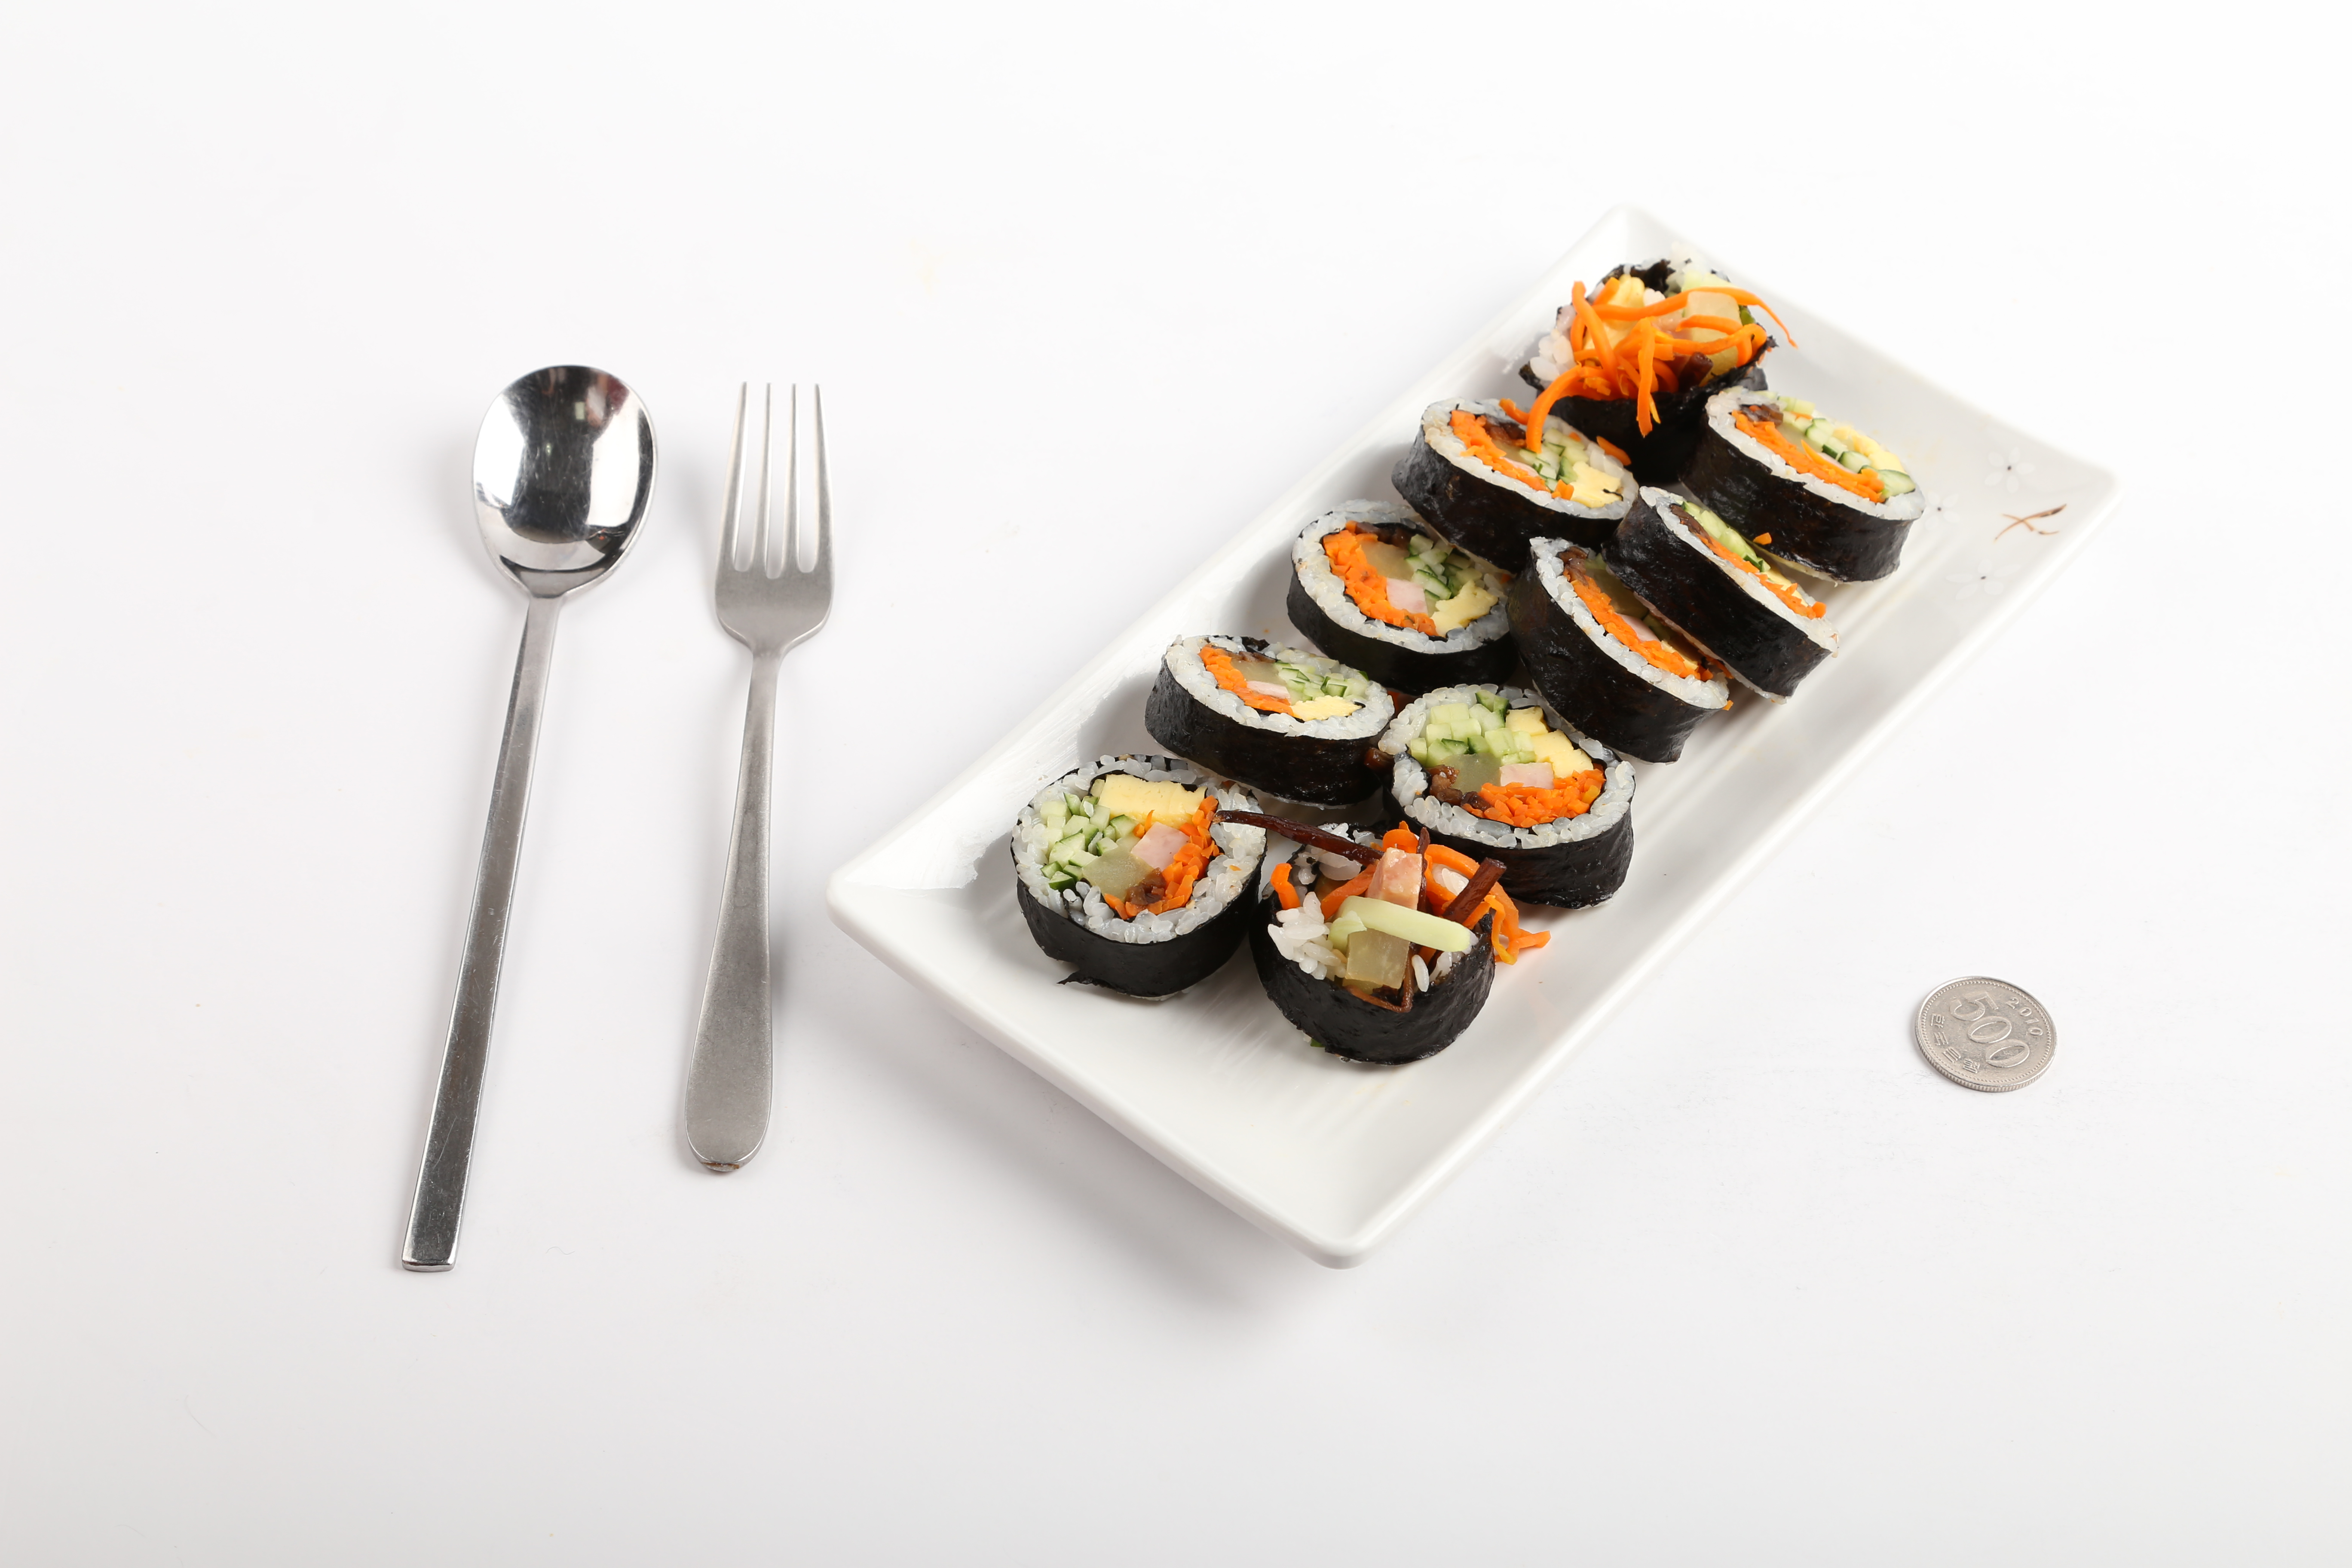dish: (824, 201, 2109, 1270)
ref_coin: (1907, 966, 2058, 1099)
ref_fork: (707, 374, 840, 691)
ref_spoon: (464, 360, 660, 646)
김밥: (1006, 259, 1913, 1071)
